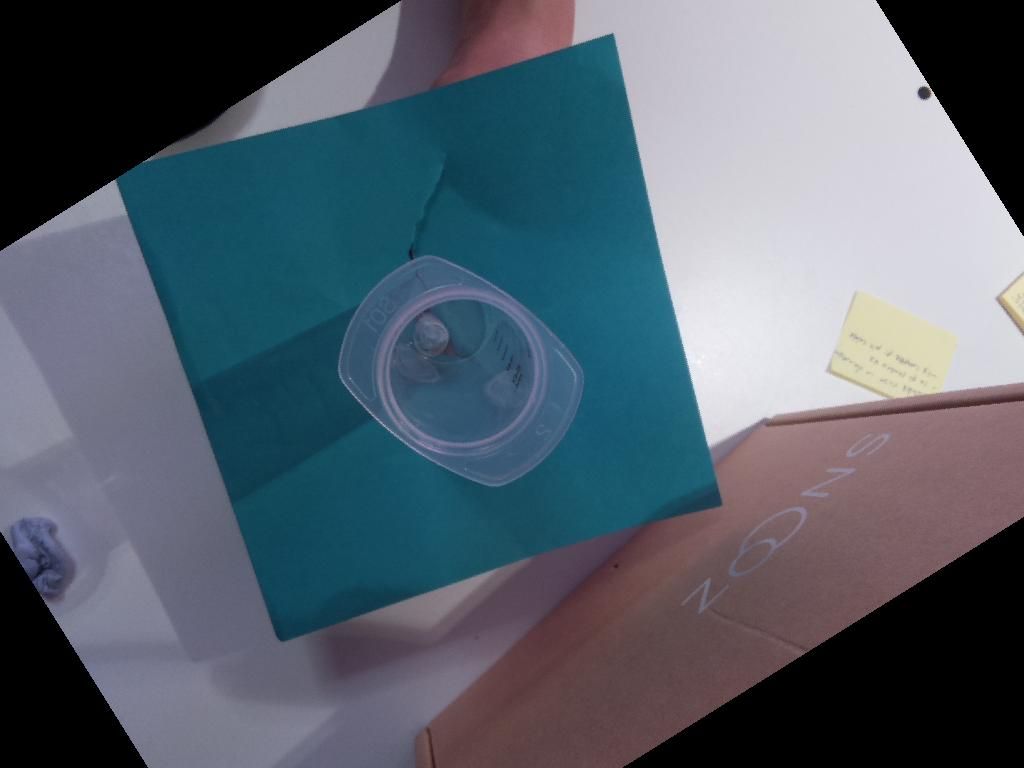clean: (335, 254, 584, 488)
